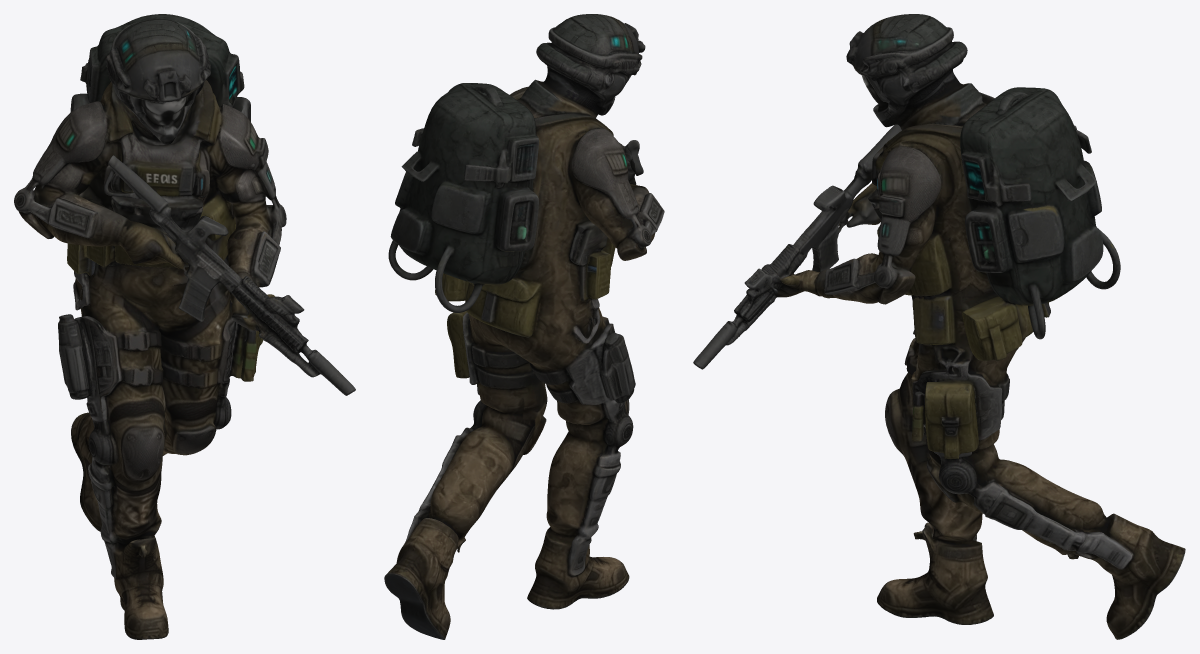
Rendered from novice_stalker.glb.
3 views of the same model, side by side, from view 1: azimuth 30°, elevation 25°; view 2: azimuth 150°, elevation 25°; view 3: azimuth 270°, elevation 25° (orthographic). The views are drawn at different scales.
Size of the model in its own units: 0.821 by 1.9 by 1.42.
Materials: 1 (1 with a texture image).
